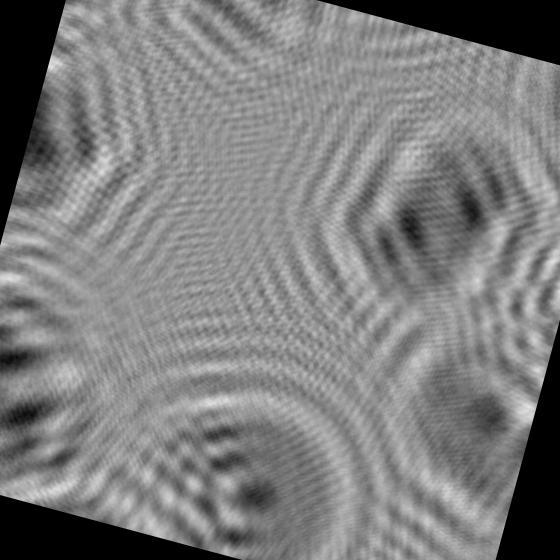A: (0, 12, 195, 307)
H: (46, 0, 176, 96)
L: (305, 271, 559, 560)
M: (0, 266, 141, 517)
U: (79, 330, 409, 560)
V: (112, 0, 362, 126)
Z: (270, 57, 560, 398)
